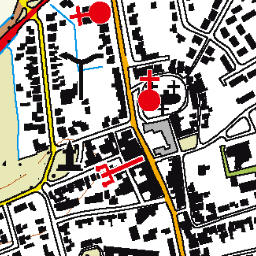church: (67, 1, 115, 29), (136, 68, 162, 115)
